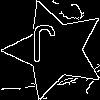J: (30, 24, 57, 71)
